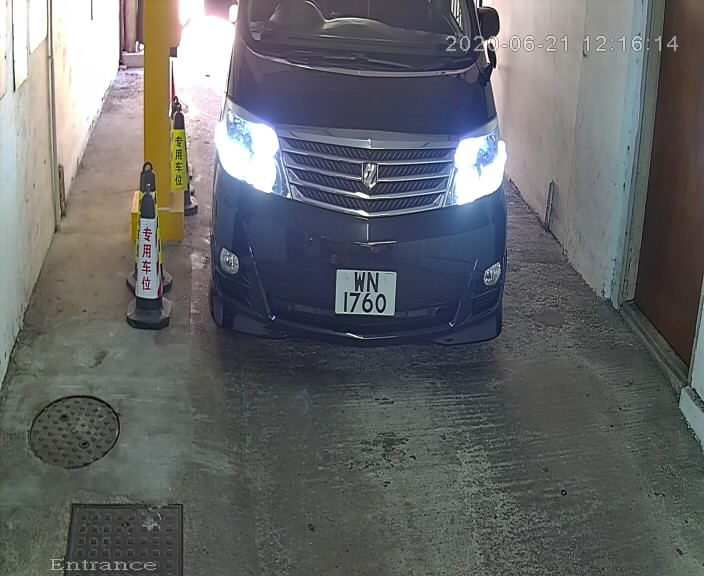privatecar: (190, 1, 542, 381)
